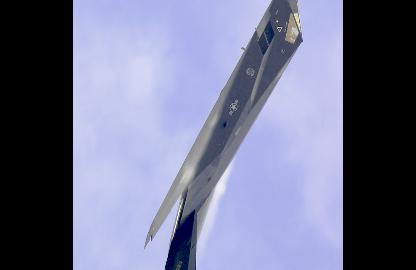E7: (143, 0, 309, 269)
